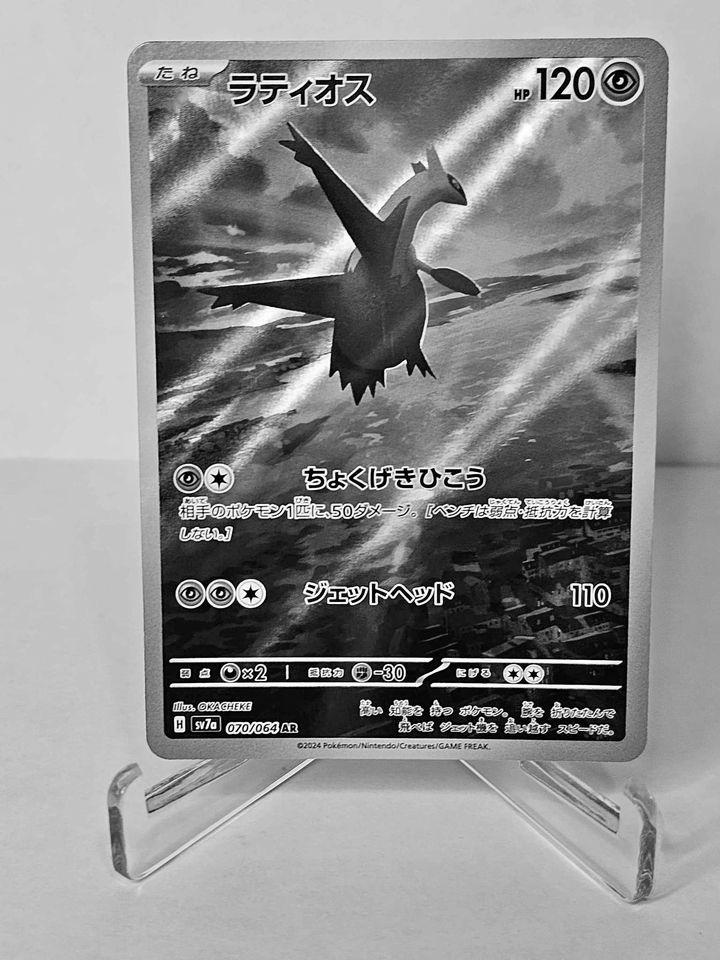card: (128, 36, 672, 762)
